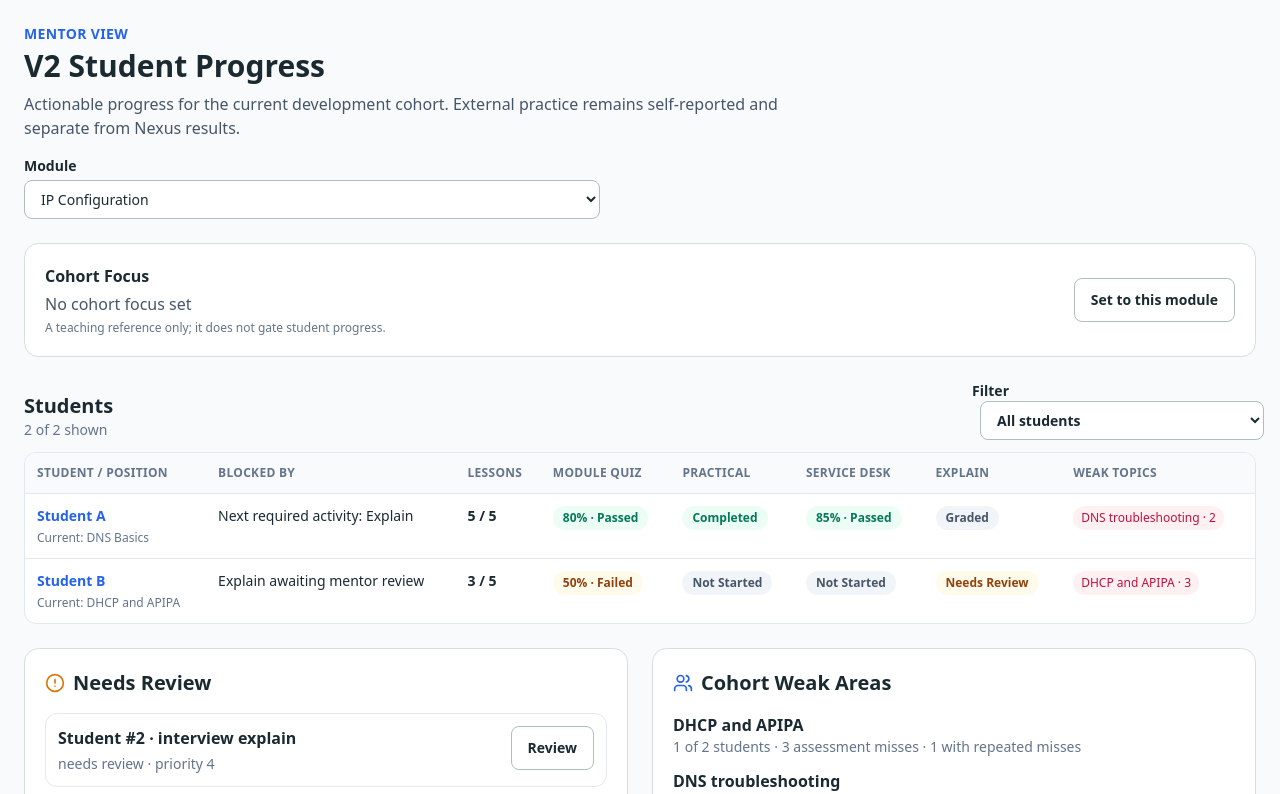
Scenario: V2MentorProgressPage › filters failed quizzes and has an honest empty state
Check: the link "Student A" is shown, box [37,506,106,525]
Select "Failed Module Quiz" in the dropdown labelled "Filter" at (1122, 420), box [980,401,1264,440]
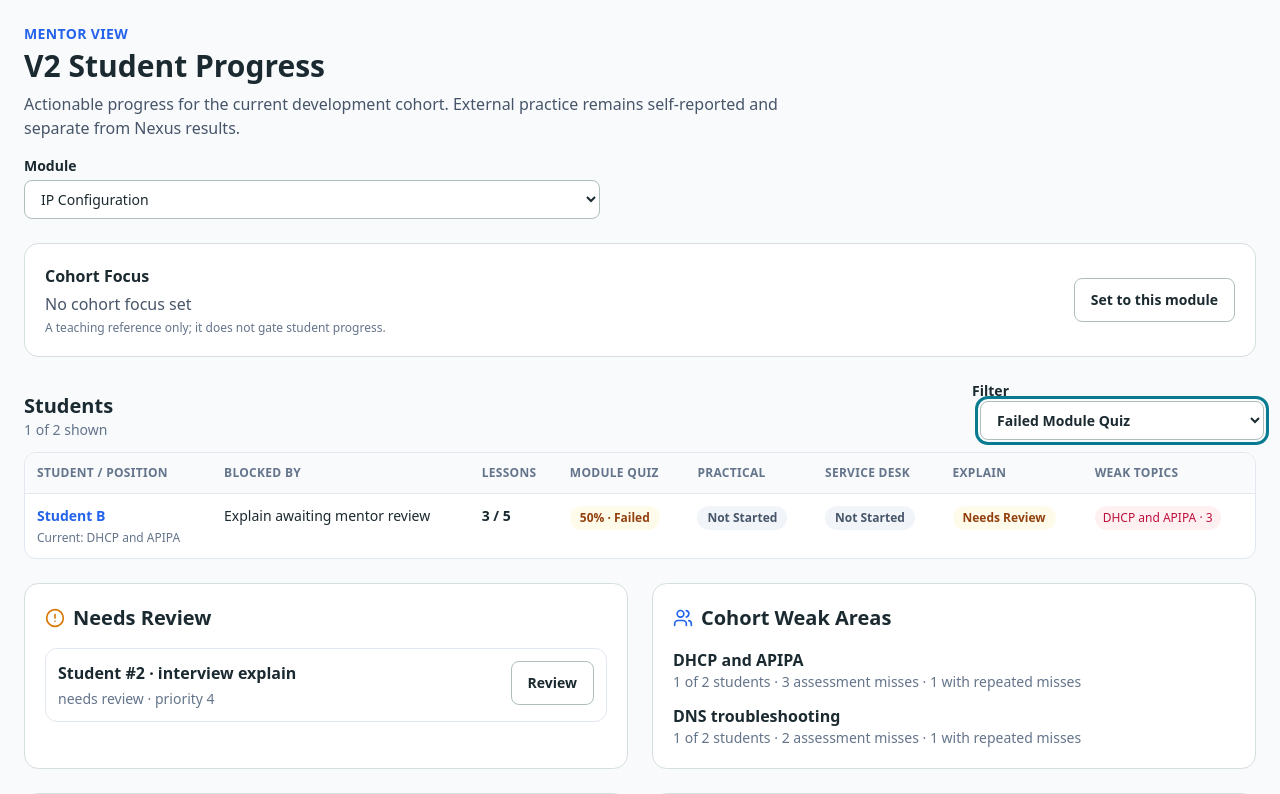
Check: the link "Student B" is shown, box [37,506,106,525]
Check: the link "Student A" is gone
Select "Weak: DNS troubleshooting" in the dropdown labelled "Filter" at (1122, 420), box [980,401,1264,440]
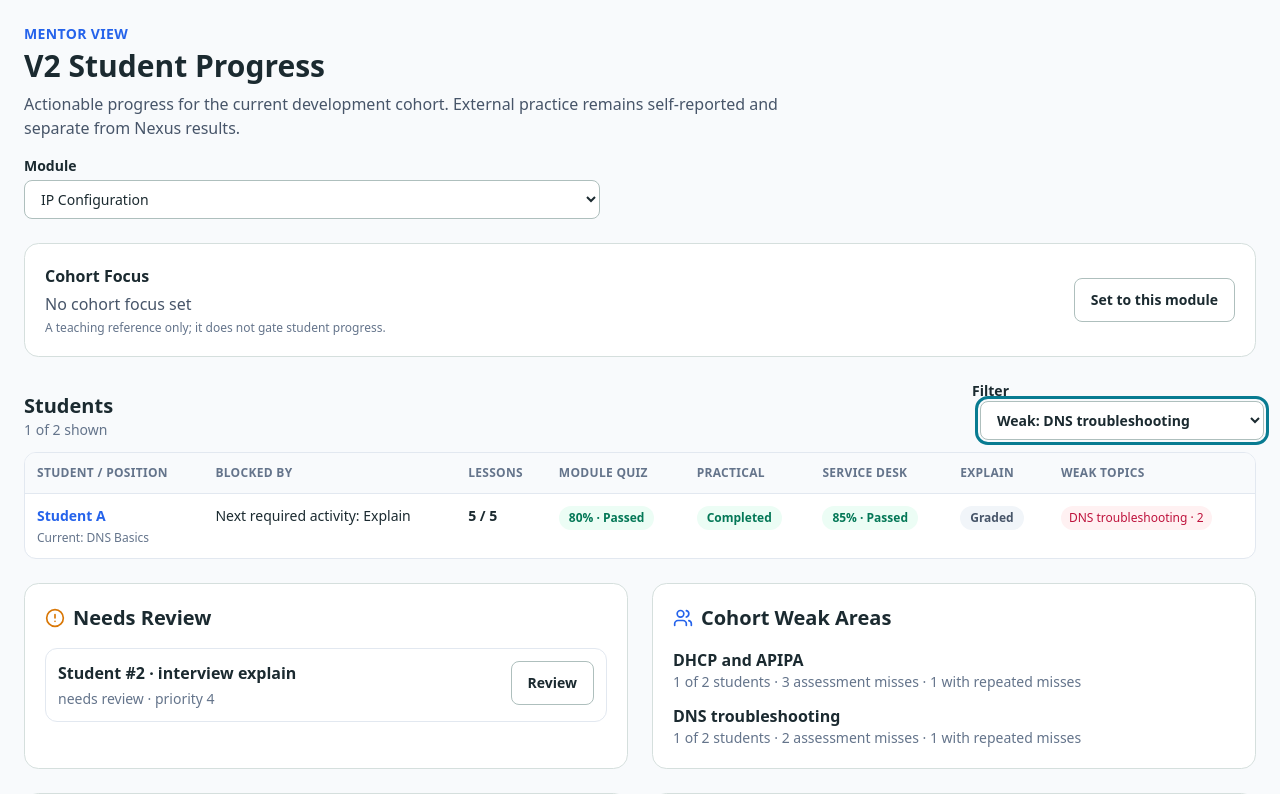
Check: the link "Student A" is shown, box [37,506,106,525]
